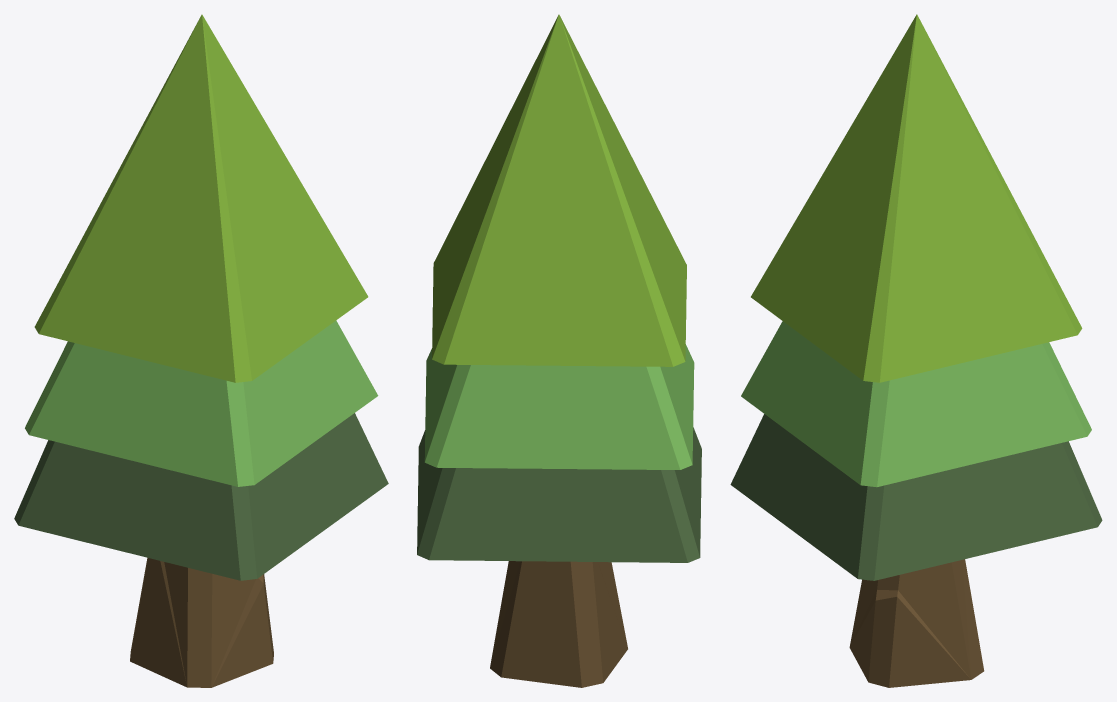
The model's file is model_polytope_tree05.fbx.
3 views of the same model, side by side, from view 1: azimuth 30°, elevation 25°; view 2: azimuth 150°, elevation 25°; view 3: azimuth 270°, elevation 25° (orthographic).
Parts seen in each view (by area): view 1: model_polytope_tree05; view 2: model_polytope_tree05; view 3: model_polytope_tree05.
Boxes of the visible parts, x1=… form: model_polytope_tree05: x1=14, y1=14, x2=388, y2=687; model_polytope_tree05: x1=417, y1=14, x2=701, y2=687; model_polytope_tree05: x1=730, y1=14, x2=1102, y2=687.
Bounding box in the file's own units: 297 × 565 × 295.
1 material, 1 textured.
